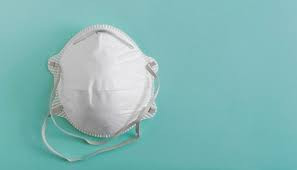mask: (46, 24, 160, 140)
